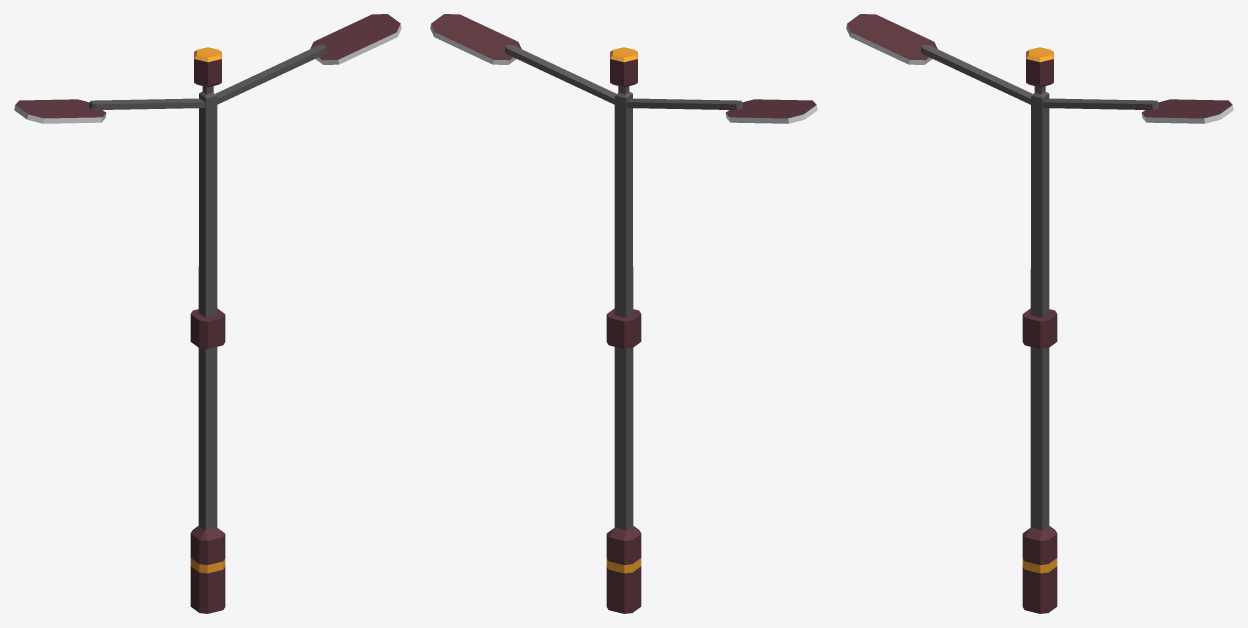
File: scifi-scifi-lamp-road-double.glb
The picture shows the model from 3 angles, left to right: view 1: azimuth 30°, elevation 25°; view 2: azimuth 150°, elevation 25°; view 3: azimuth 330°, elevation 25°; orthographic projection.
Visible parts, largest first — view 1: scifi-lamp-road-double; view 2: scifi-lamp-road-double; view 3: scifi-lamp-road-double.
Part boxes in pixels (<box>): scifi-lamp-road-double: <box>14,14,401,613</box>; scifi-lamp-road-double: <box>430,14,817,613</box>; scifi-lamp-road-double: <box>846,14,1233,613</box>.
Size of the model in its own units: 6.75 by 9.55 by 0.7694.
